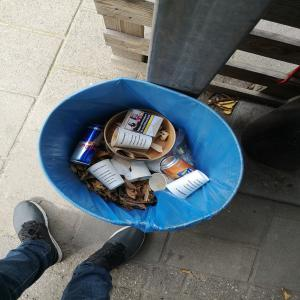Can: (69, 124, 104, 168), (159, 155, 196, 179)
Cup: (167, 170, 215, 201), (86, 160, 127, 192), (111, 126, 155, 152), (126, 164, 153, 184), (149, 174, 169, 193)
Trash: (120, 110, 167, 139)
